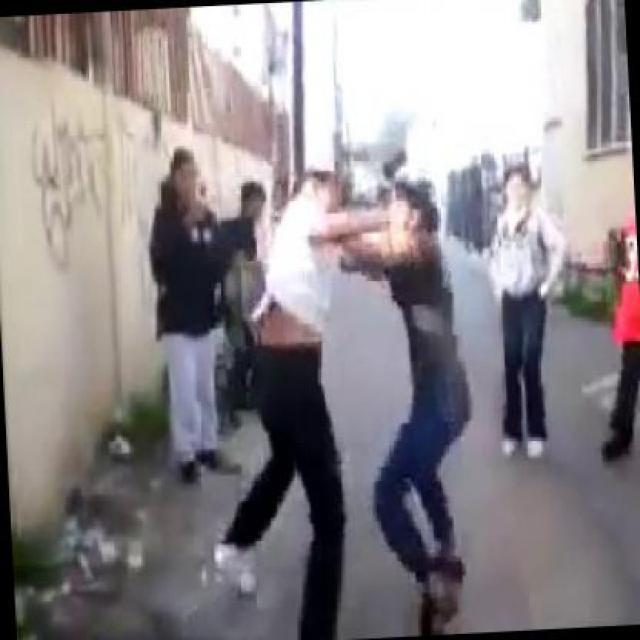fight: (243, 157, 472, 456)
non-fight: (142, 142, 235, 420), (476, 162, 572, 392)
